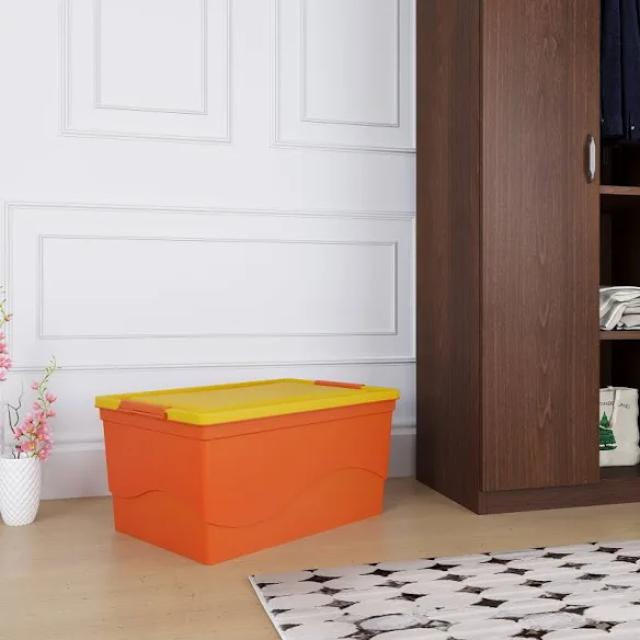plastic_box: (81, 373, 412, 545)
